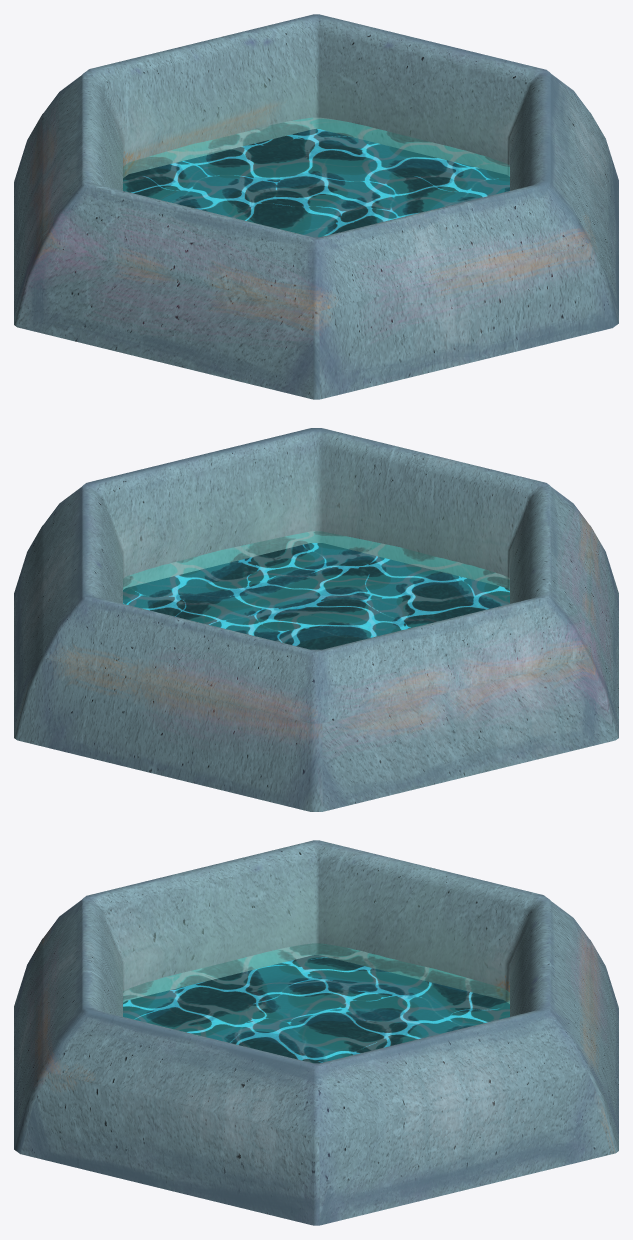
Rendered from well_mod.fbx.
3 renders of one model, top to bottom at view 1: azimuth 30°, elevation 25°; view 2: azimuth 150°, elevation 25°; view 3: azimuth 270°, elevation 25°, orthographic.
Visible parts, largest first — view 1: well, water, waterdown; view 2: well, water, waterdown; view 3: well, water, waterdown.
Part boxes in pixels (x1,y1,x2,y2): well: (14, 14, 618, 399); water: (123, 118, 509, 236); waterdown: (123, 129, 509, 237); well: (14, 428, 618, 811); water: (123, 531, 509, 649); waterdown: (123, 543, 509, 649); well: (14, 840, 618, 1225); water: (123, 943, 509, 1062); waterdown: (123, 955, 509, 1063).
Size of the model in its own units: 221 by 44.02 by 192.
